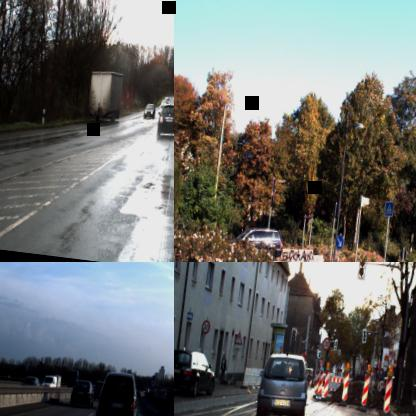DANGER: (233, 329, 243, 346)
keep right: (334, 233, 344, 250)
speed limit 30: (200, 319, 210, 334), (321, 336, 331, 350)
